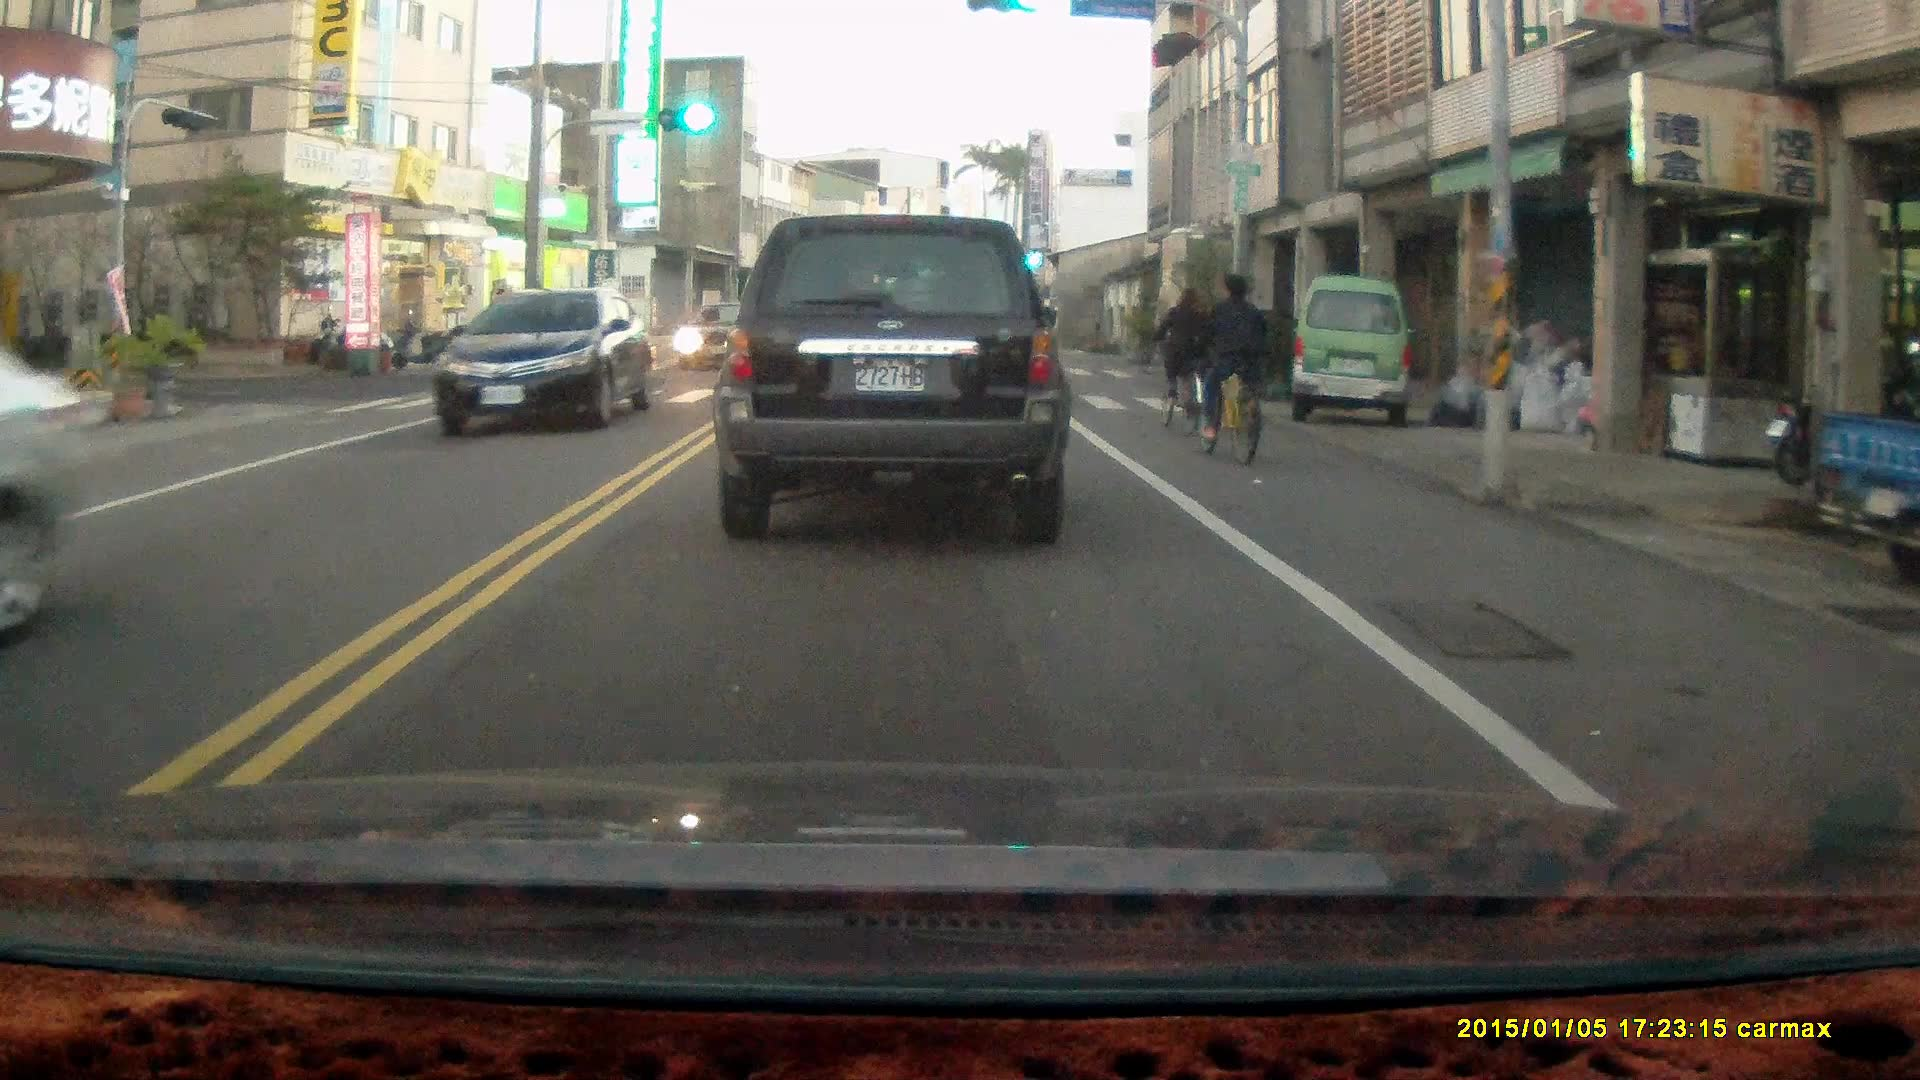rider: (1193, 269, 1268, 464), (1148, 280, 1214, 437)
vehicle: (716, 213, 1075, 542), (435, 284, 656, 439), (1, 335, 92, 647), (1290, 274, 1413, 430), (680, 299, 778, 375)
